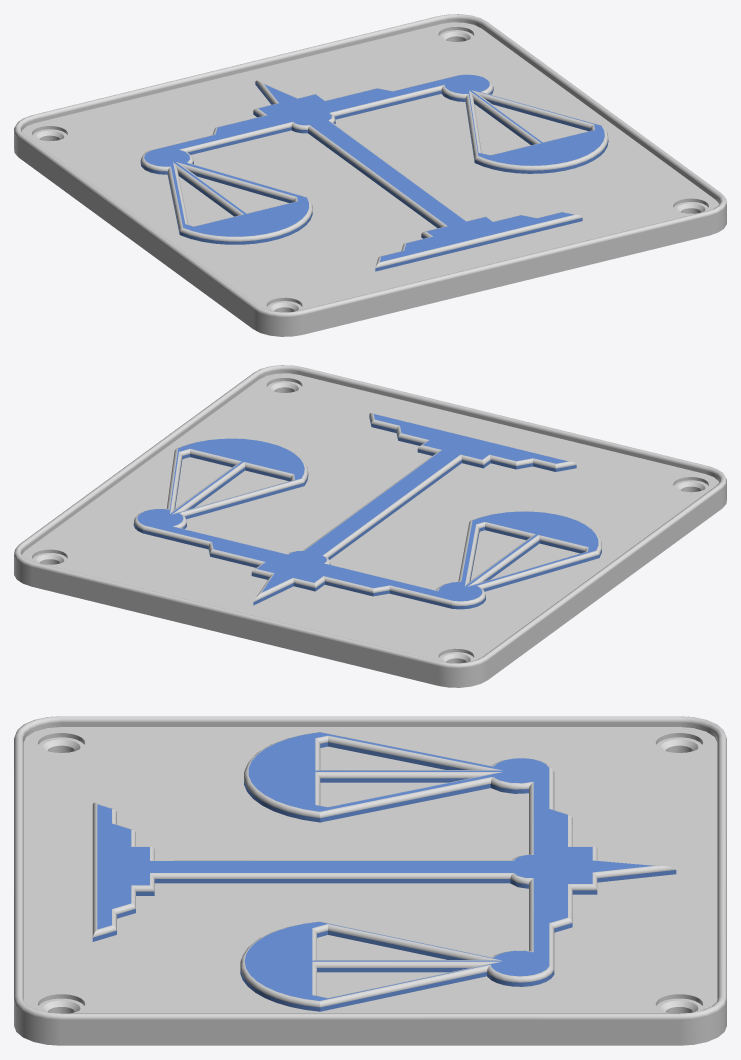
3 views of the same model, one above another, from view 1: azimuth 30°, elevation 25°; view 2: azimuth 150°, elevation 25°; view 3: azimuth 270°, elevation 25° (orthographic). The views are drawn at different scales.
Parts seen in each view (by area): view 1: Object__0, Object__1; view 2: Object__0, Object__1; view 3: Object__0, Object__1.
Boxes of the visible parts, x1=… form: Object__0: x1=14, y1=14, x2=726, y2=336; Object__1: x1=140, y1=74, x2=608, y2=271; Object__0: x1=14, y1=365, x2=726, y2=687; Object__1: x1=133, y1=414, x2=601, y2=609; Object__0: x1=14, y1=716, x2=726, y2=1045; Object__1: x1=92, y1=732, x2=676, y2=1011.
Bounding box in the file's own units: 150 × 7 × 150.
